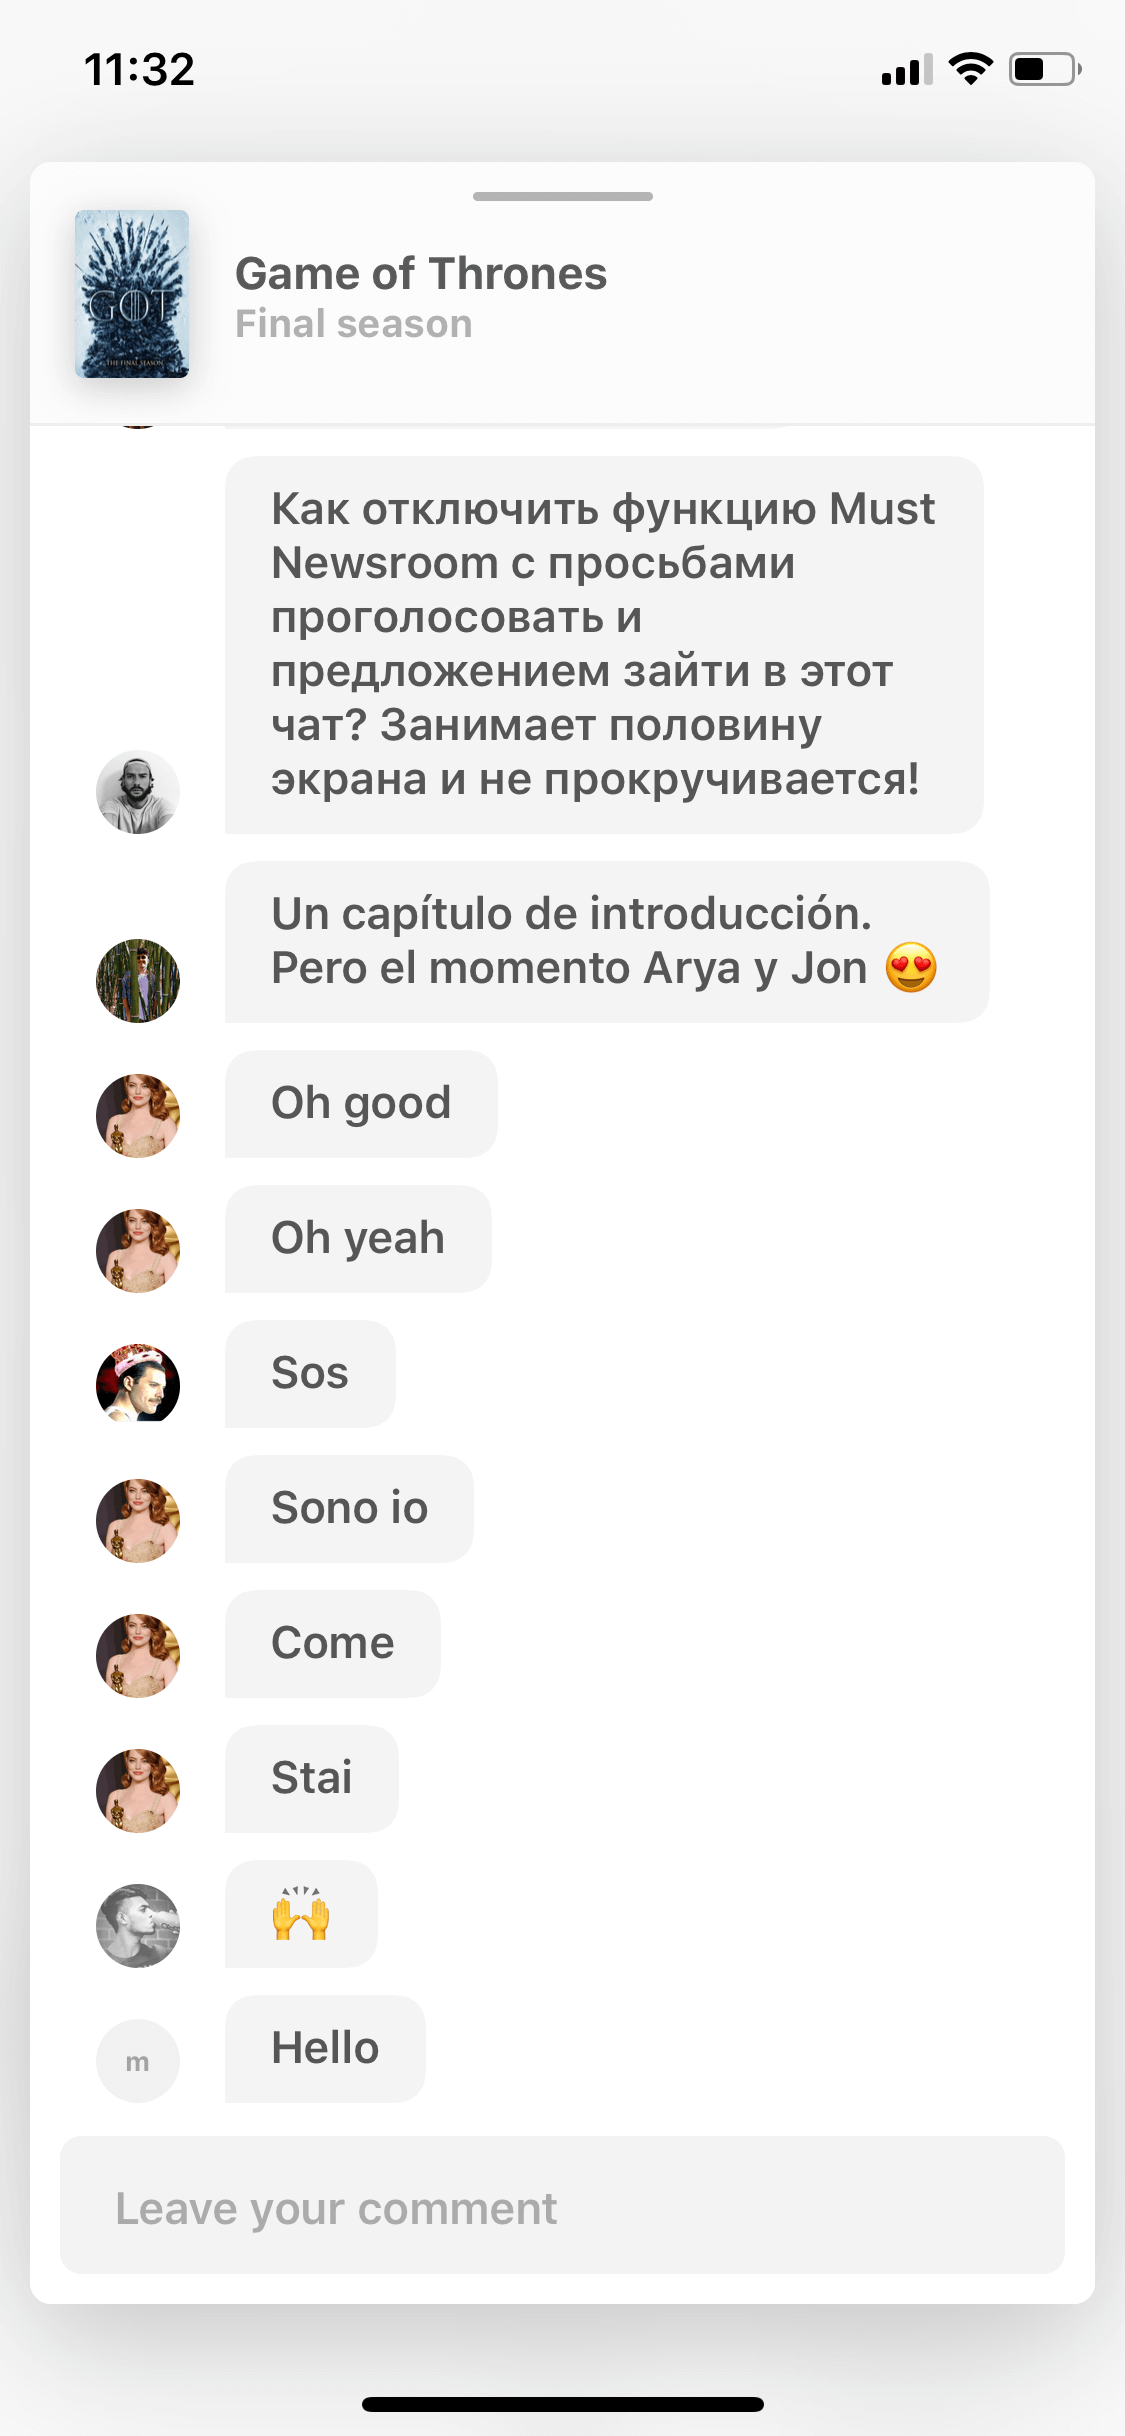Text Fields: (50, 2114, 1081, 2292)
